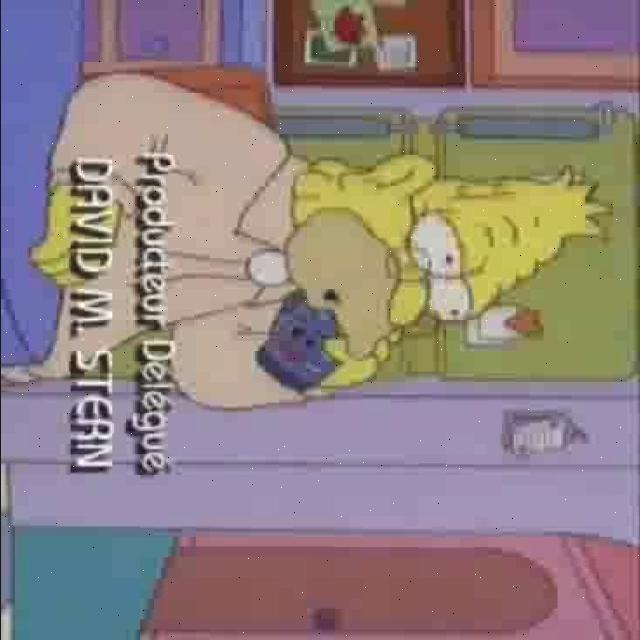Abraham Grampa Simpson: (279, 150, 611, 358)
